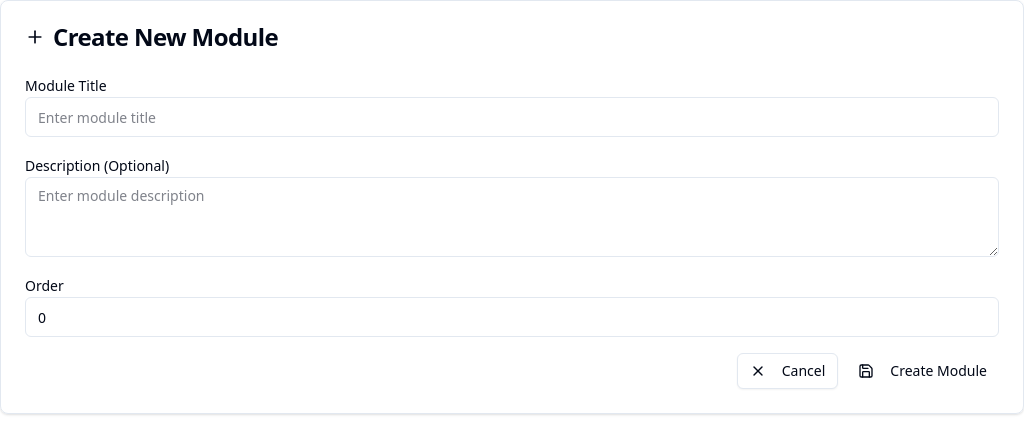
ModuleForm › Form States › should show loading state in submit button
This screenshot has width=1024, height=432.
Type "Test Module" into the field labelled "Module Title" at (512, 117), box [25,97,999,137]
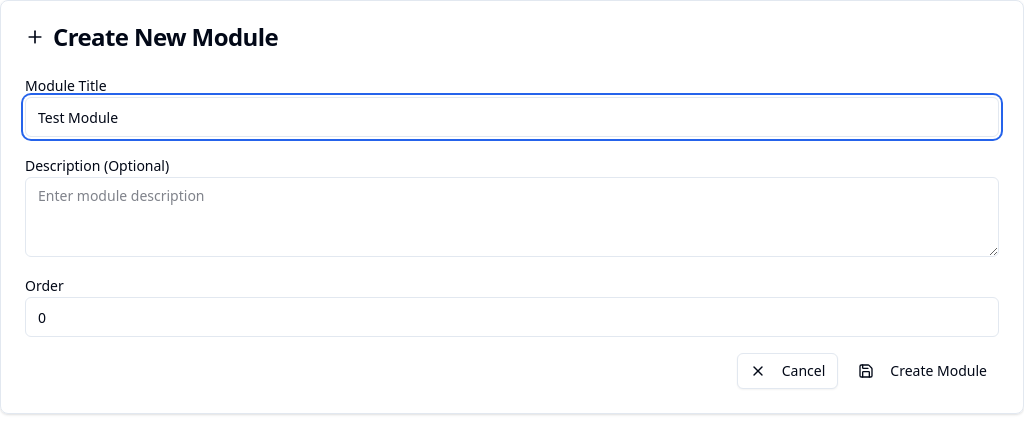
Click the button "Create Module" at (923, 371), box [846,353,999,389]
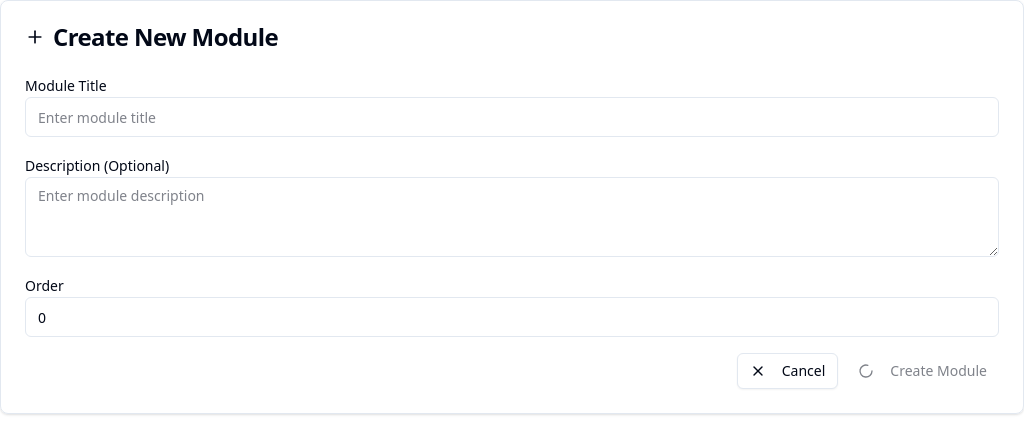
Expected: the button "Create Module" is disabled, [846,353,999,389]
